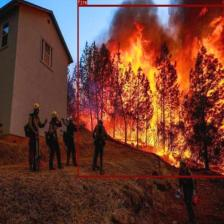fire: (77, 4, 224, 177)
